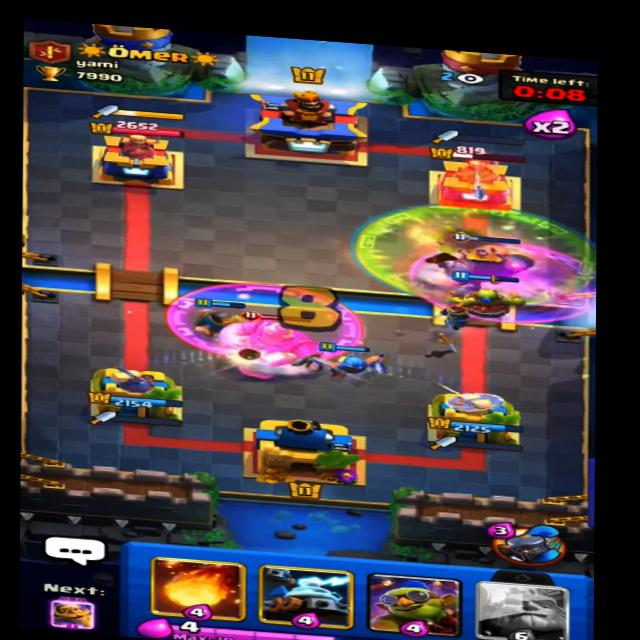Evoroyalgiant: (209, 308, 341, 378)
Rage: (173, 279, 367, 371)
